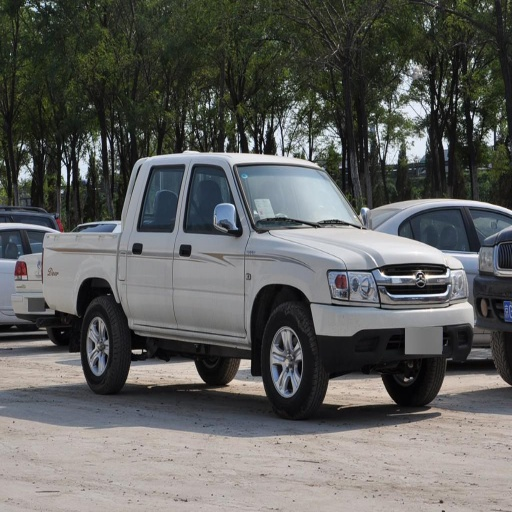front_bumper: (313, 264, 473, 370)
front_right_door: (175, 163, 244, 336)
front_right_light: (329, 266, 381, 304)
trunk: (35, 226, 120, 318)
